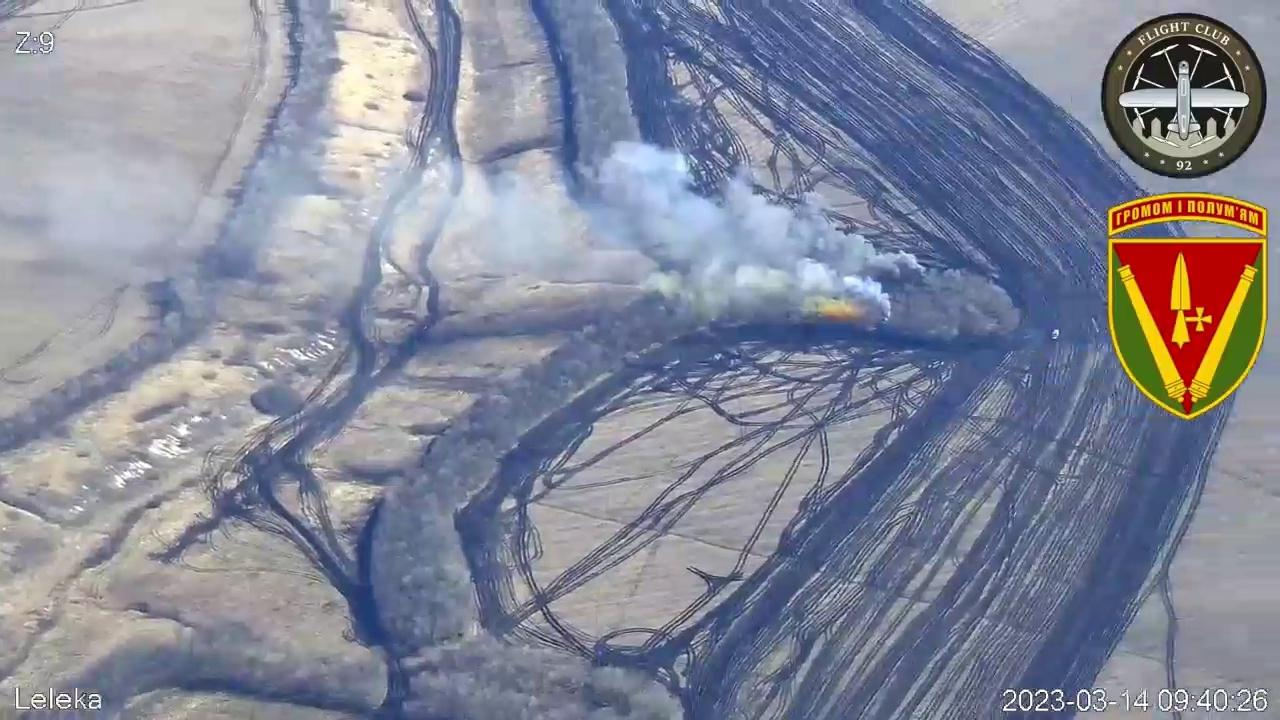vehicle: (1050, 329, 1060, 341)
